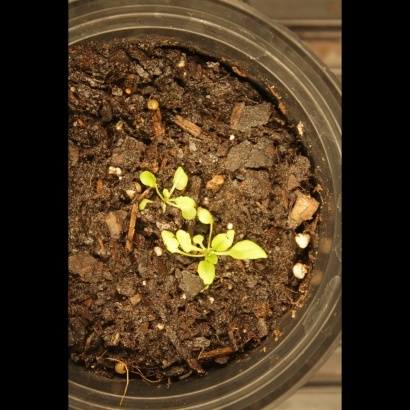leaf: (228, 238, 275, 266), (131, 163, 163, 192), (169, 167, 202, 192), (173, 224, 198, 255), (214, 227, 238, 259), (195, 260, 222, 288), (158, 229, 181, 261), (197, 201, 224, 228), (173, 193, 196, 221), (133, 196, 156, 219), (189, 232, 212, 255)
